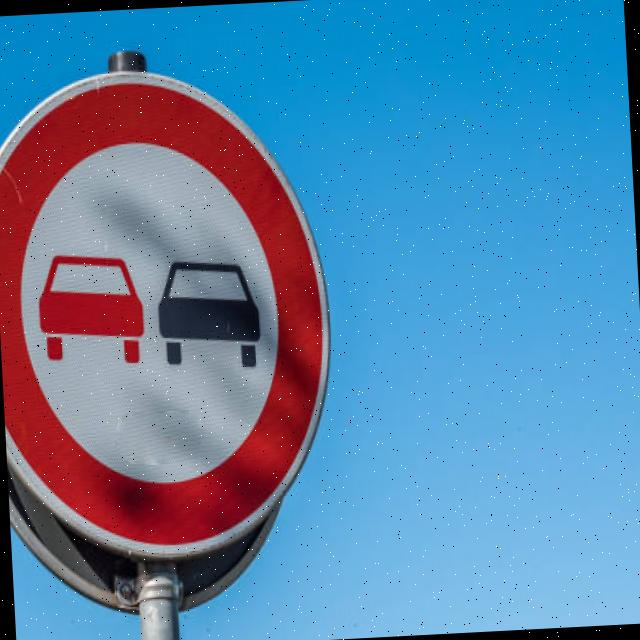no_passing: (0, 51, 348, 570)
